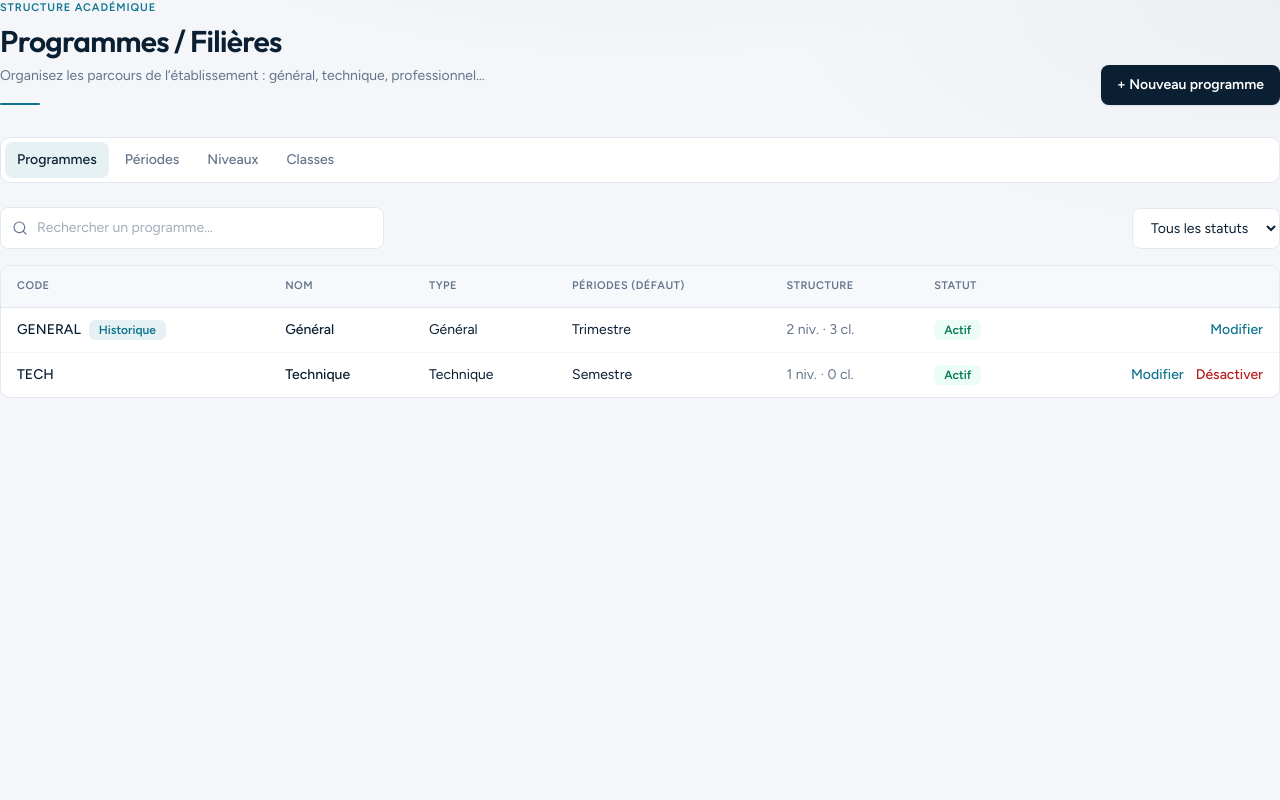
Programmes page › désactive un programme non-GENERAL après confirmation
Later steps or results of the test are not shown.
Check: the text "TECH" is shown, box [17, 365, 54, 385]
Click the button "Désactiver".
click(1229, 375)  # box [1196, 365, 1263, 385]
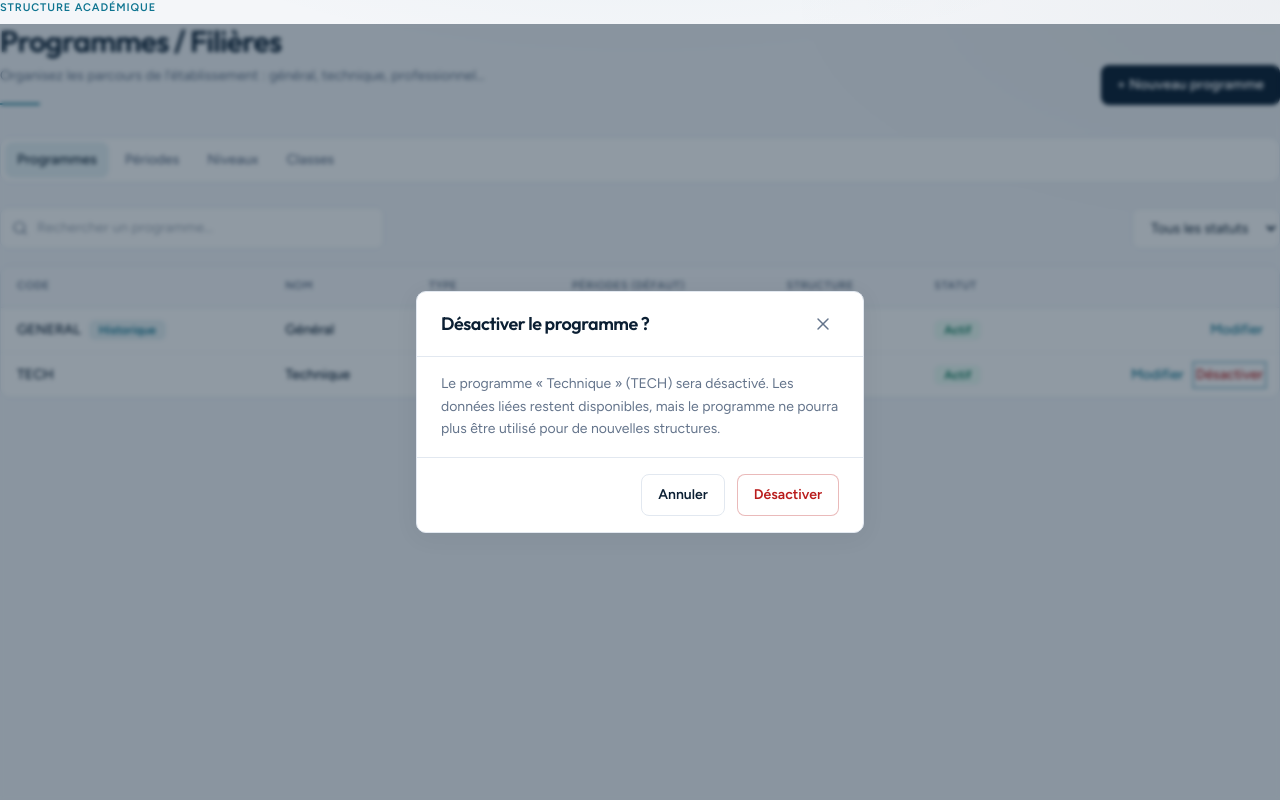
Check: the text "sera désactivé" is shown, box [441, 375, 838, 437]
